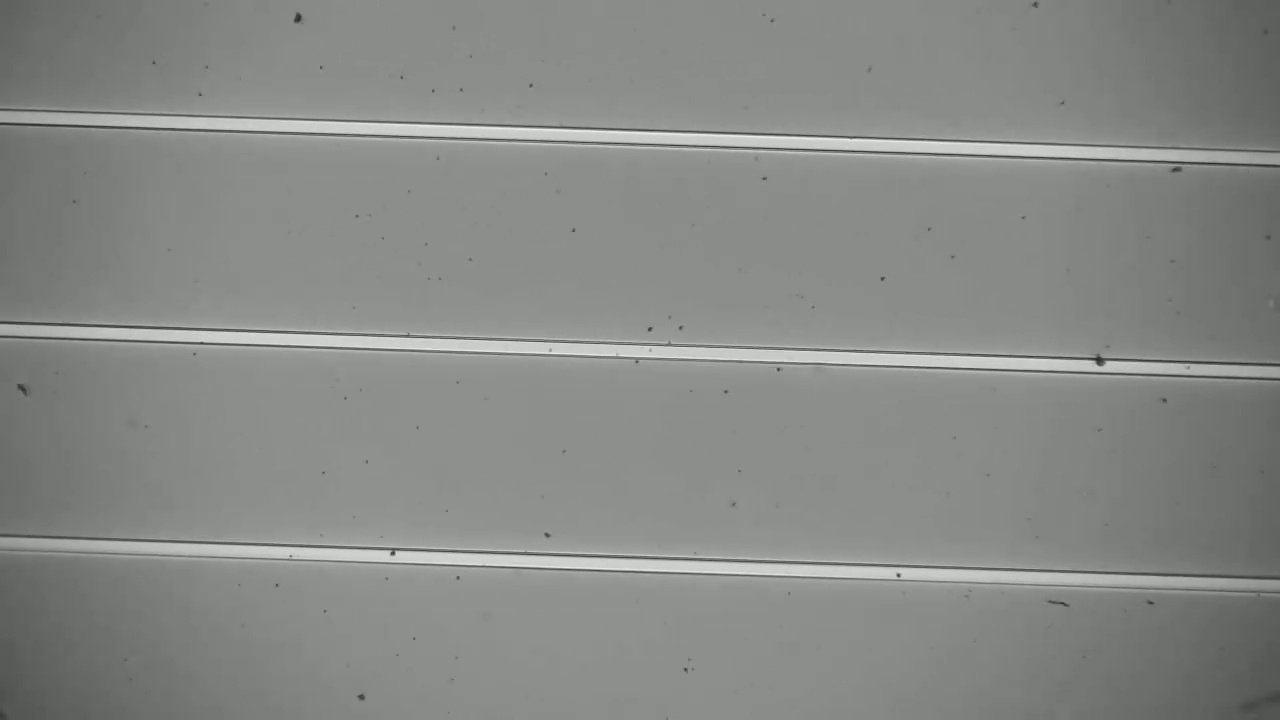stains_enbedded: (1088, 345, 1117, 383)
